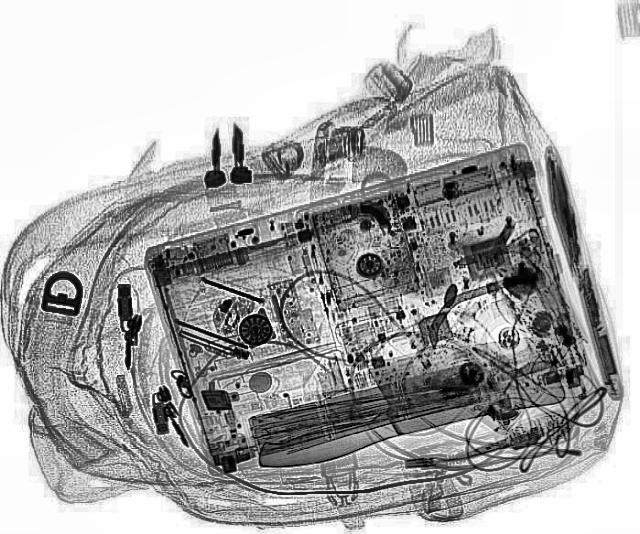Knife: (232, 326, 568, 472)
